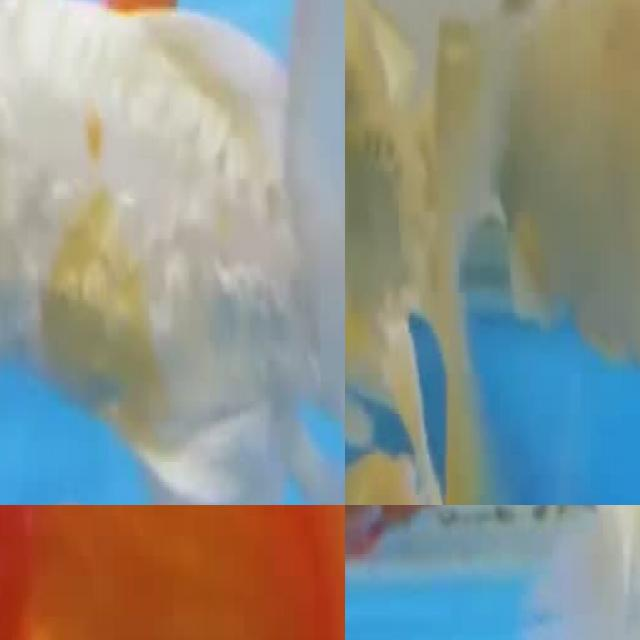fish: (0, 0, 345, 505), (465, 0, 640, 285), (345, 505, 504, 640)
